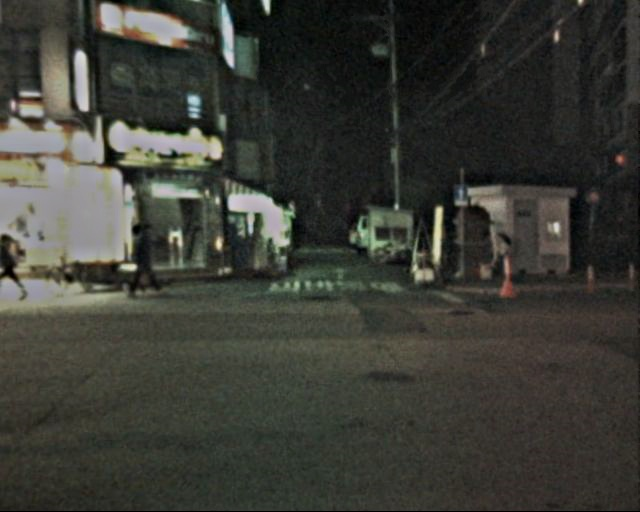person: (126, 219, 160, 299), (482, 224, 510, 286)
